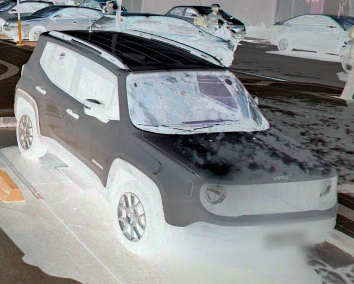car: (13, 25, 341, 257)
